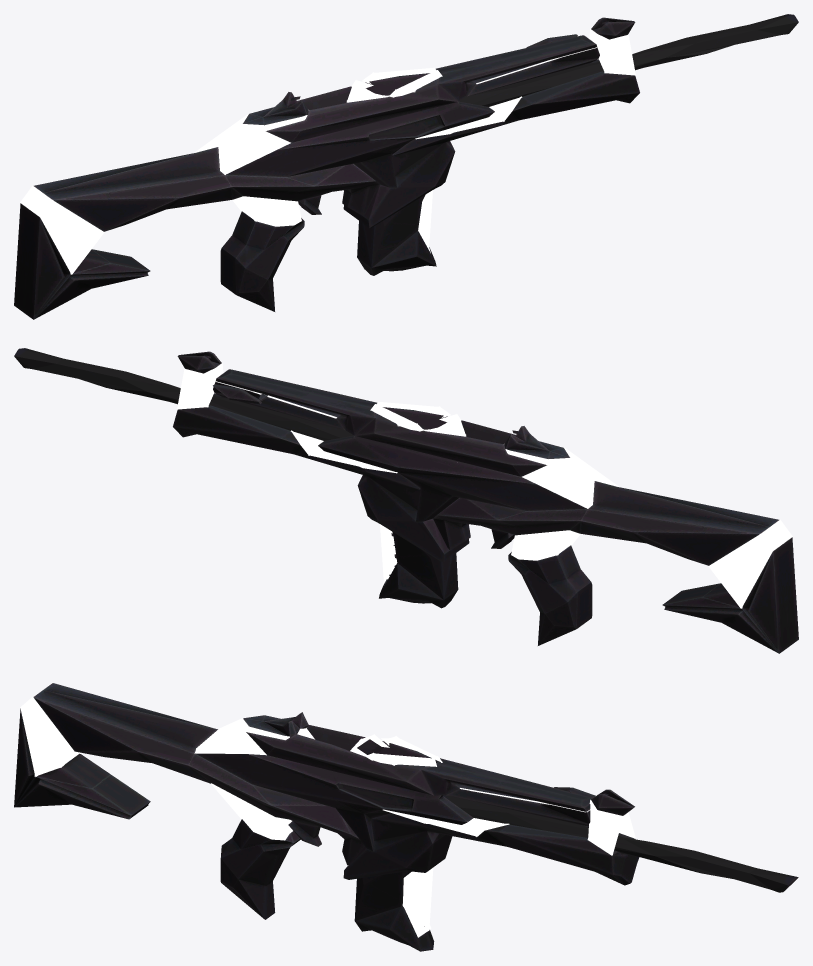
The model's file is specialcarbinemk2_sign.glb.
3 renders of one model, top to bottom at view 1: azimuth 30°, elevation 25°; view 2: azimuth 150°, elevation 25°; view 3: azimuth 330°, elevation 25°, orthographic.
Parts seen in each view (by area): view 1: Gun_Root, AAPClip; view 2: Gun_Root, AAPClip; view 3: Gun_Root, AAPClip.
Boxes of the visible parts, <box> form: Gun_Root: <box>14,14,798,319</box>; AAPClip: <box>357,194,436,275</box>; Gun_Root: <box>14,348,798,653</box>; AAPClip: <box>379,531,458,608</box>; Gun_Root: <box>14,682,798,937</box>; AAPClip: <box>354,871,434,951</box>.
Bounding box in the file's own units: 0.7791 × 0.1992 × 0.078.
Materials: 4 (2 with a texture image).
